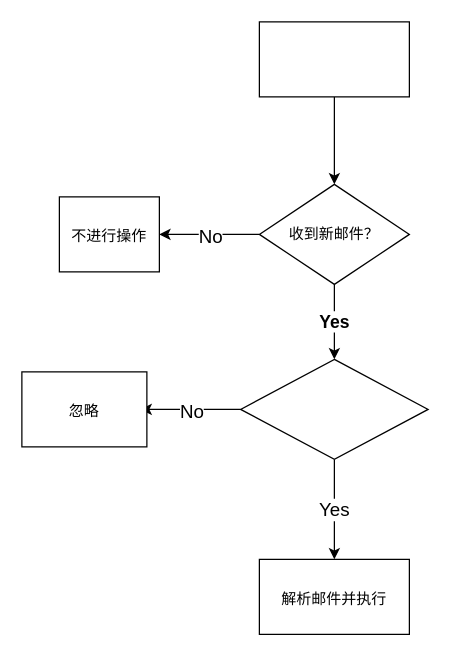
This 450x656 diagram has some shape labels left out. The box of each missing label's shape, as (x1, y1, x2, y2) in pixels:
发件人为合法控制者？: (239, 358, 428, 459)
查看邮箱: (258, 21, 409, 97)
